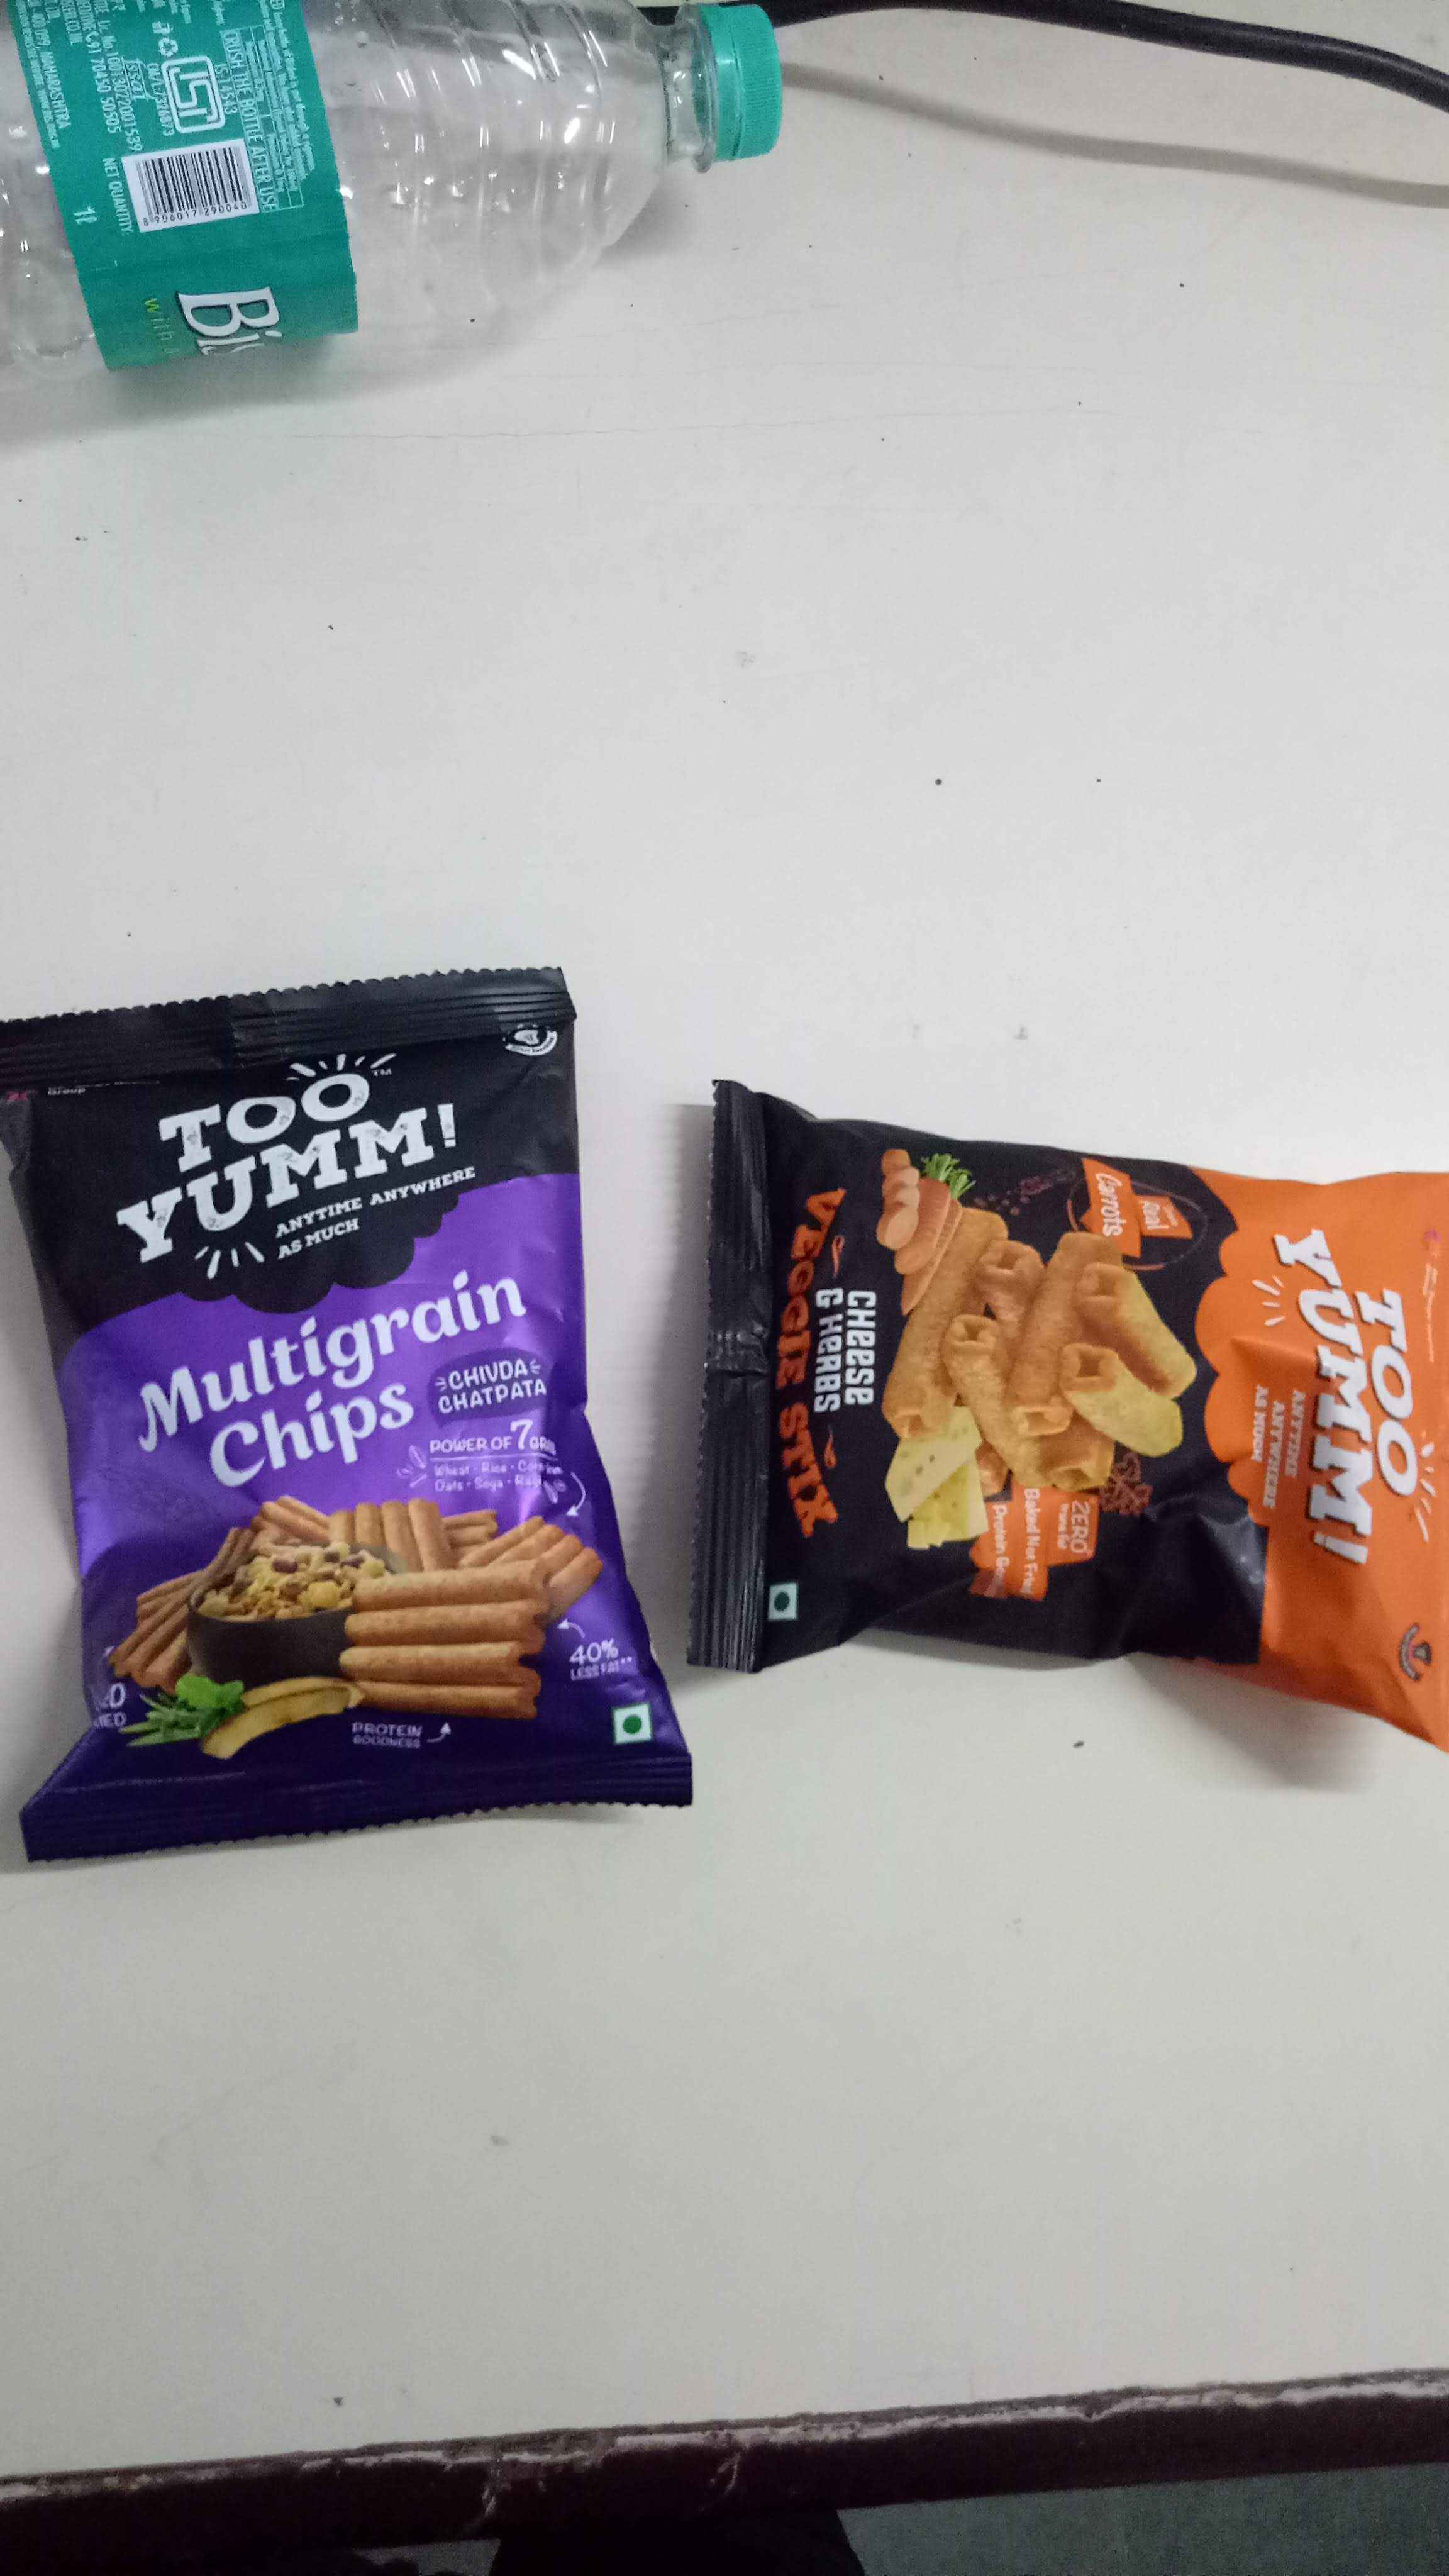tooyumm: (134, 1039, 488, 1277), (1254, 1203, 1447, 1601), (119, 87, 327, 382)
